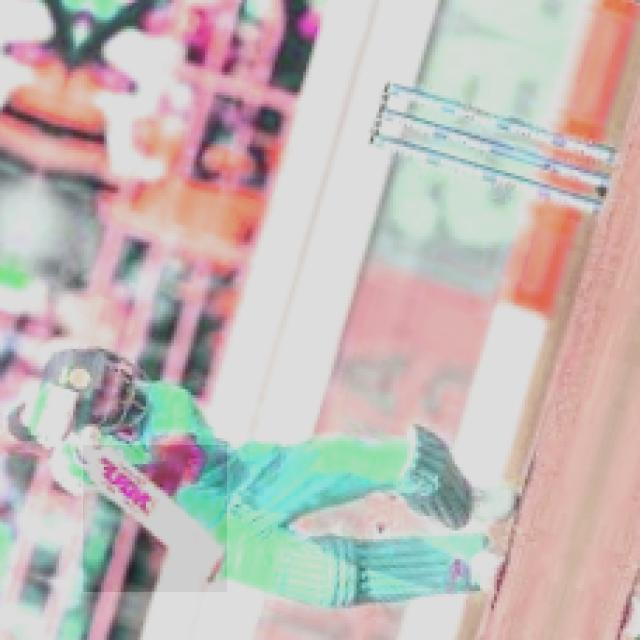bat: (79, 443, 228, 589)
toe: (201, 550, 226, 585)
